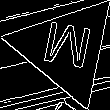M_S: (38, 20, 94, 78)
